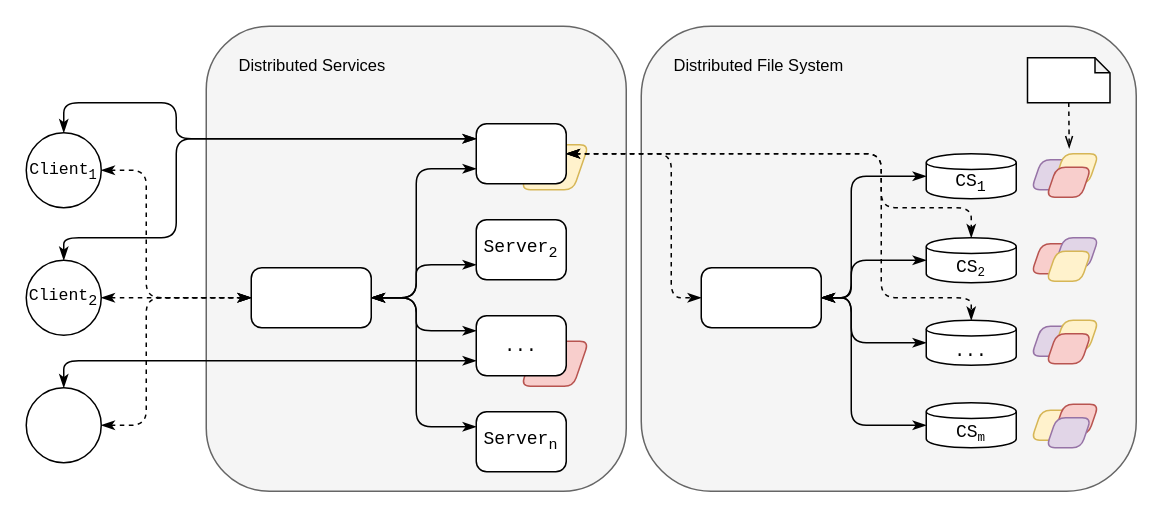
Some shapes in this 1163 by 518 pixel diagram are drawn without their labels. Here are the shapes that lost their labels. From the top down, the centre of each, then its label:
At (1068,79): "Sector Chunks".
At (520,153): "Server 1".
At (310,297): "Switch".
At (760,297): "Controller".
At (63,424): "Client 3".
